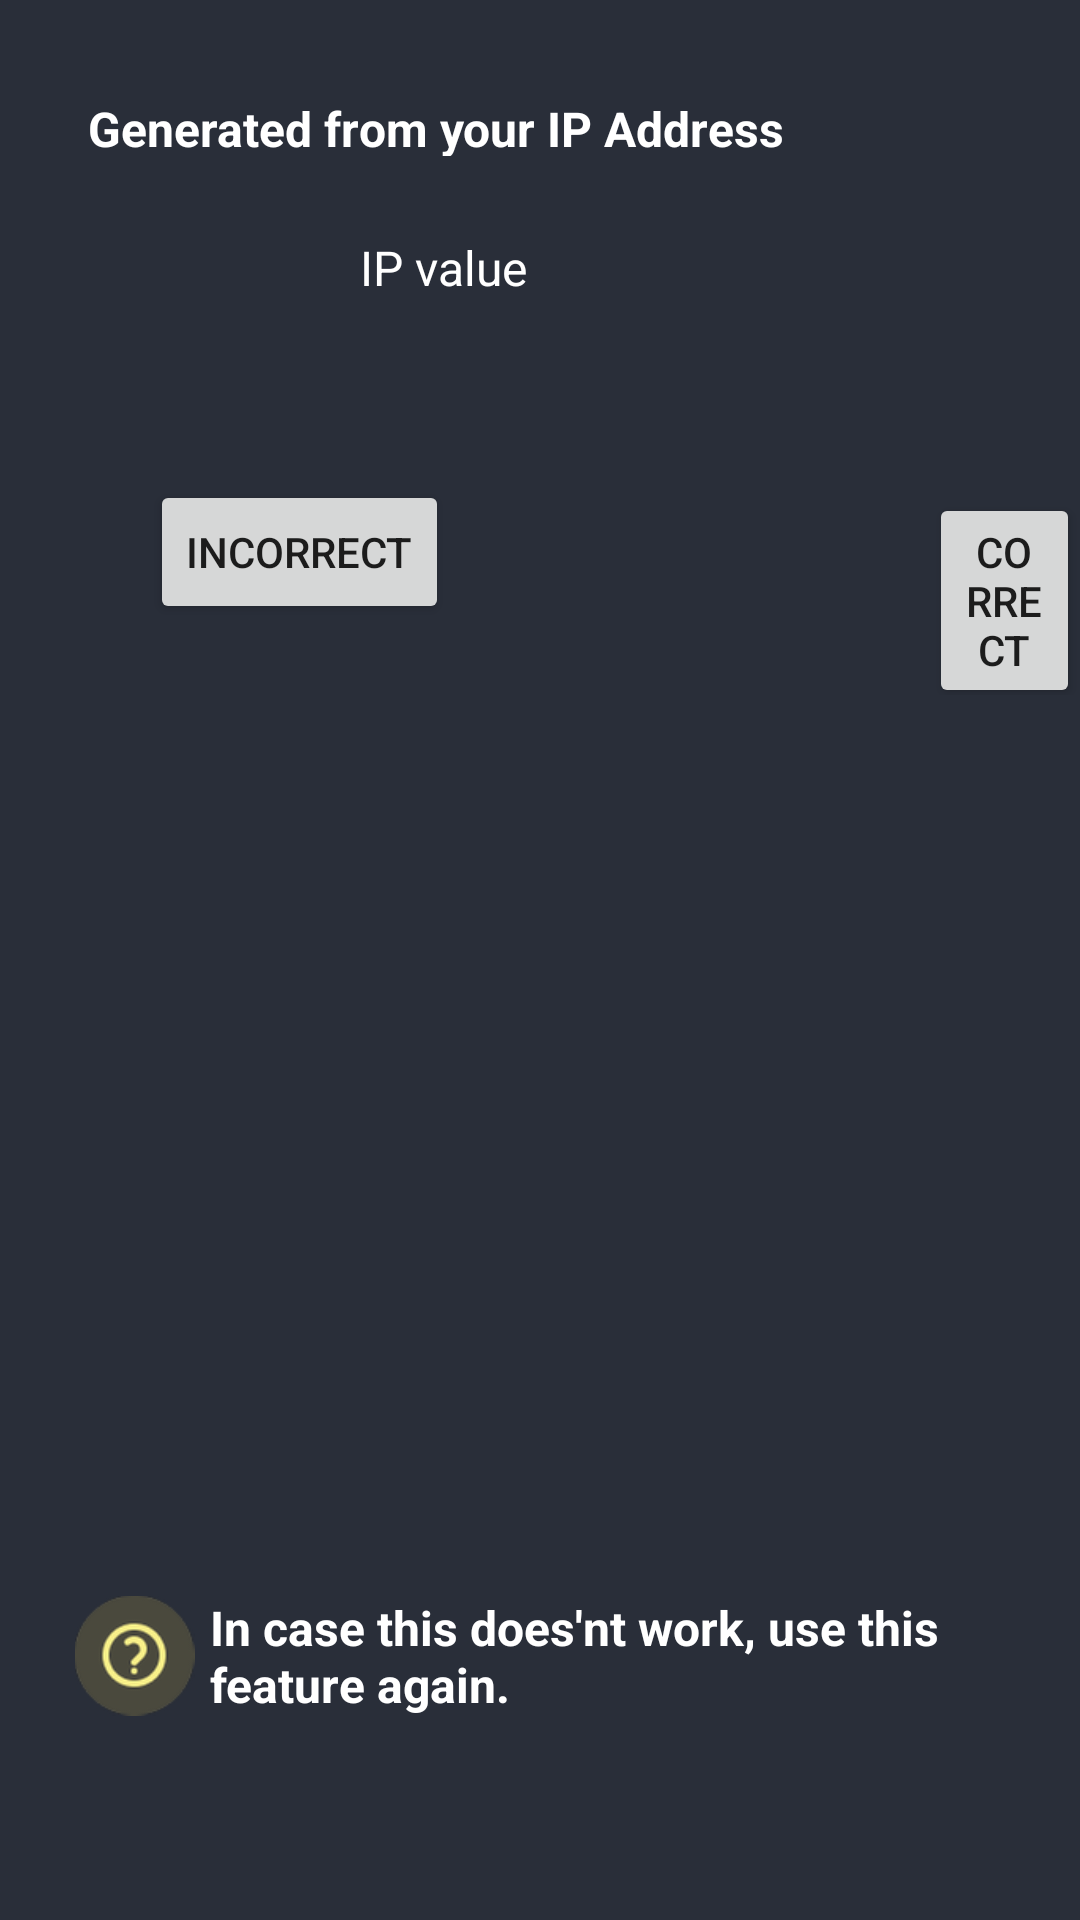

Icon click points for this 1080px×1920px phone screenshot, format [x,y]:
question: [135,1656]
